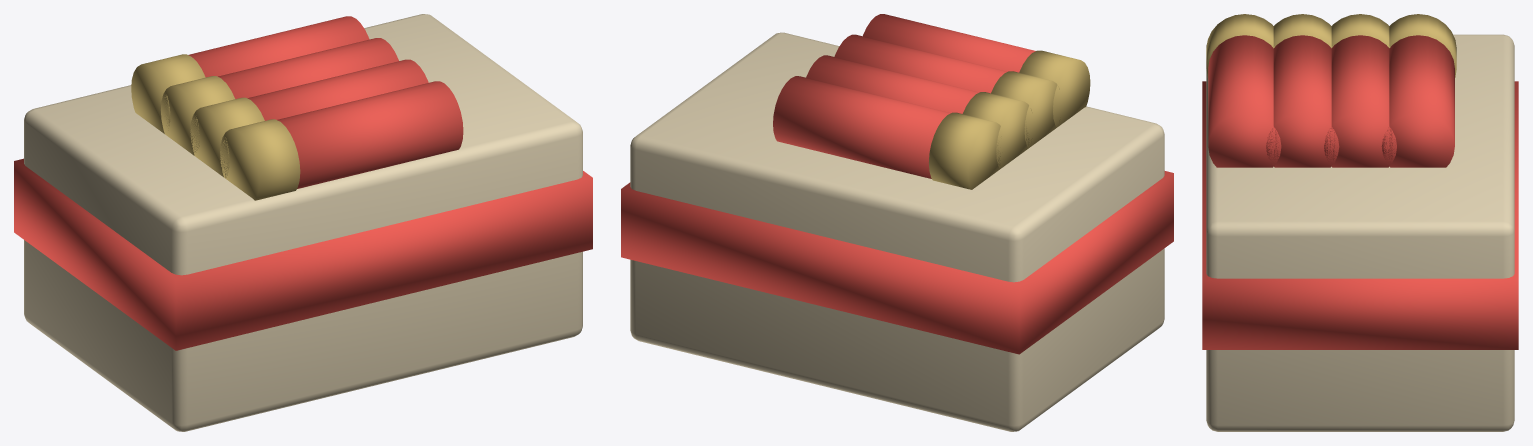
File: SM_Ammo_12g.glb
3 views of the same model, side by side, from view 1: azimuth 30°, elevation 25°; view 2: azimuth 150°, elevation 25°; view 3: azimuth 270°, elevation 25° (orthographic). The views are drawn at different scales.
Parts seen in each view (by area): view 1: SM_Ammo_12g; view 2: SM_Ammo_12g; view 3: SM_Ammo_12g.
Boxes of the visible parts, bbox=[...] form: SM_Ammo_12g: bbox=[14, 14, 592, 431]; SM_Ammo_12g: bbox=[621, 14, 1173, 431]; SM_Ammo_12g: bbox=[1202, 14, 1518, 431].
Size of the model in its own units: 0.122 by 0.076 by 0.082.
